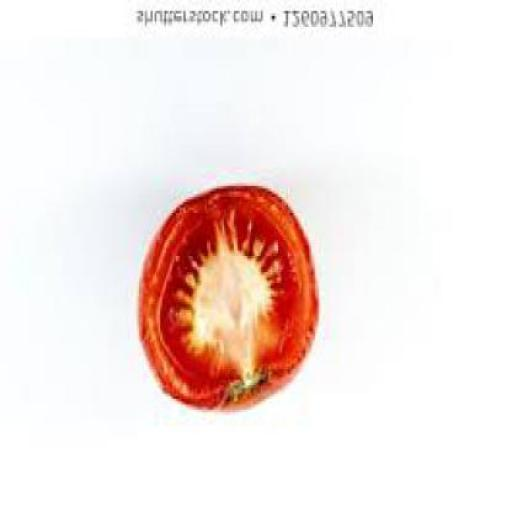biodegradable: (139, 188, 319, 415)
